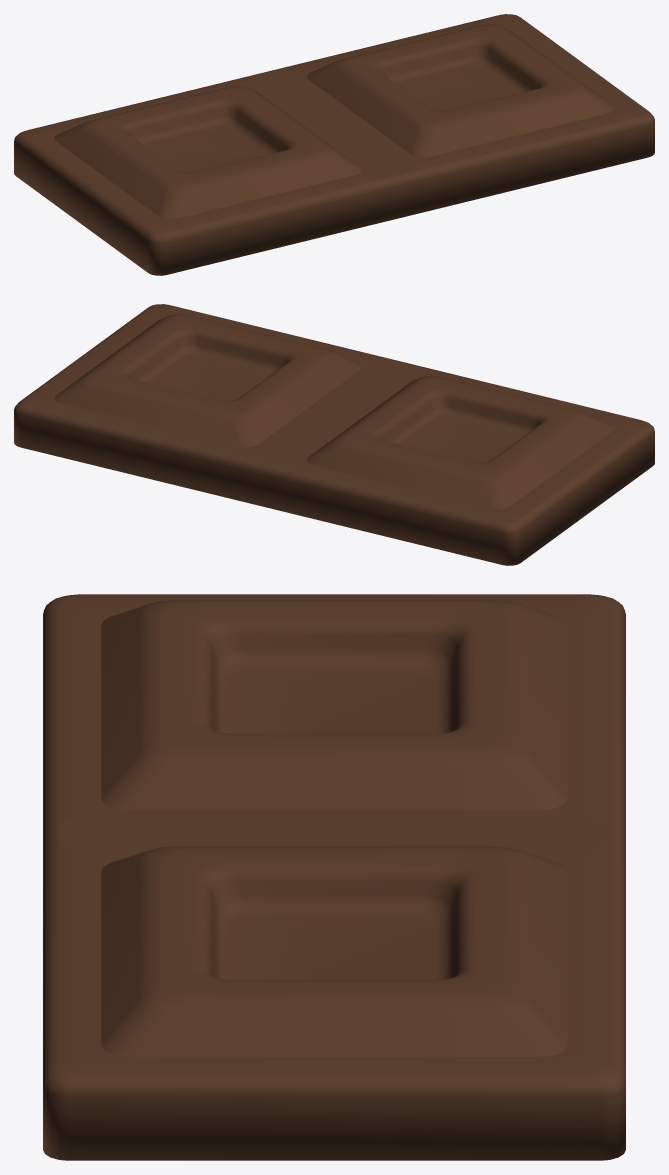
The model's file is chocolate2.fbx.
3 views of the same model, one above another, from view 1: azimuth 30°, elevation 25°; view 2: azimuth 150°, elevation 25°; view 3: azimuth 270°, elevation 25° (orthographic). The views are drawn at different scales.
Parts seen in each view (by area): view 1: chocolate2; view 2: chocolate2; view 3: chocolate2.
Boxes of the visible parts, left/top/right/bottom form: chocolate2: left=14, top=14, right=654, bottom=275; chocolate2: left=14, top=304, right=654, bottom=565; chocolate2: left=43, top=594, right=625, bottom=1160.
Size of the model in its own units: 4 by 0.4361 by 2.
